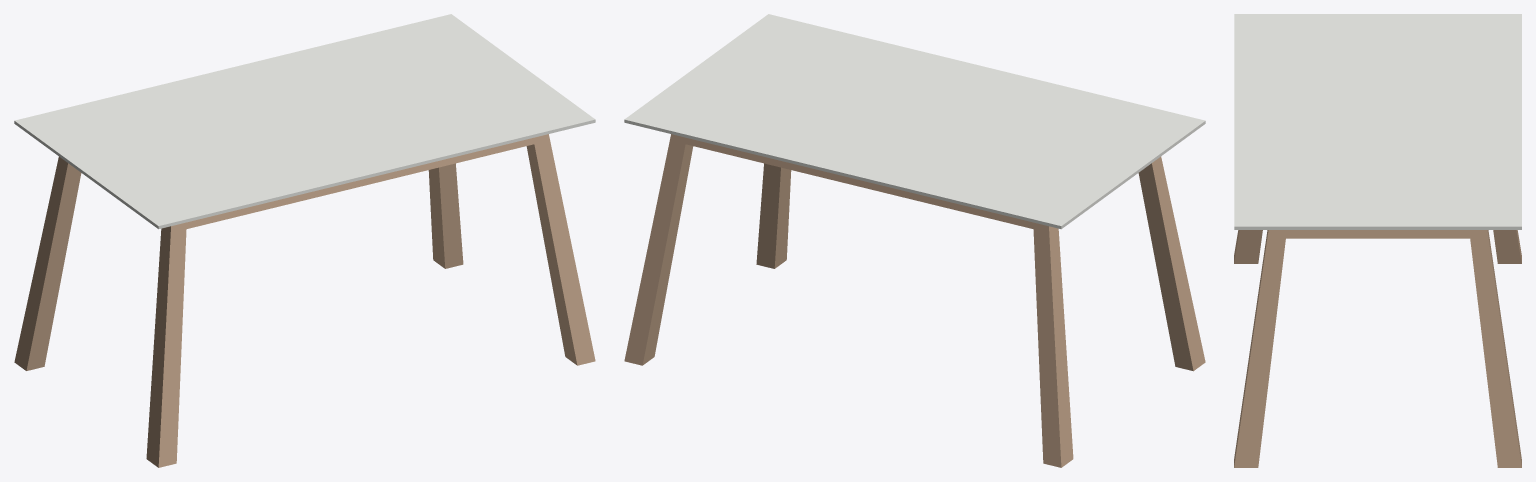
The model's file is DiningTable_v01.fbx.
The picture shows the model from 3 angles, left to right: view 1: azimuth 30°, elevation 25°; view 2: azimuth 150°, elevation 25°; view 3: azimuth 270°, elevation 25°; orthographic projection.
Visible parts, largest first — view 1: DiningTable; view 2: DiningTable; view 3: DiningTable.
Part boxes in pixels (x1=…): DiningTable: x1=14, y1=14, x2=595, y2=467; DiningTable: x1=624, y1=14, x2=1205, y2=467; DiningTable: x1=1234, y1=14, x2=1521, y2=467.
Size of the model in its own units: 140 by 74 by 80.02.
